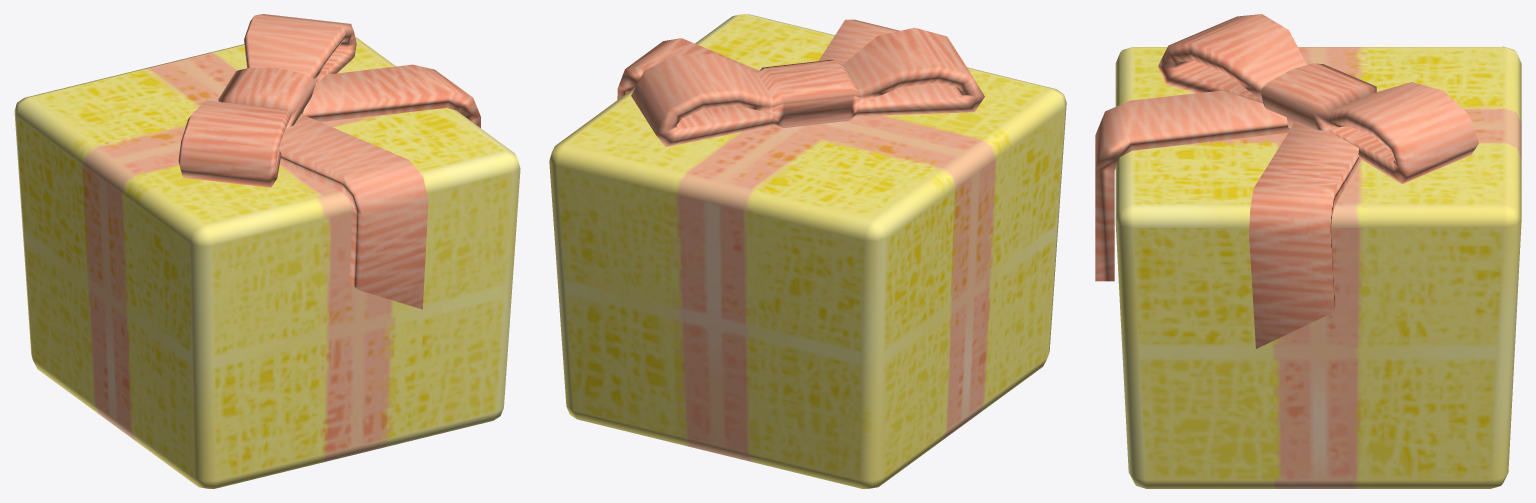
Rendered from giftbox.glb.
3 renders of one model, left to right at view 1: azimuth 30°, elevation 25°; view 2: azimuth 150°, elevation 25°; view 3: azimuth 270°, elevation 25°, orthographic. The views are drawn at different scales.
Parts seen in each view (by area): view 1: Box__mReBody; view 2: Box__mReBody; view 3: Box__mReBody.
Boxes of the visible parts, x1,y1,x2,y2 form: Box__mReBody: (14,14,520,488); Box__mReBody: (549,14,1066,488); Box__mReBody: (1095,14,1521,488).
Bounding box in the file's own units: 1.85 × 1.67 × 1.85.
Materials: 1 (1 with a texture image).
